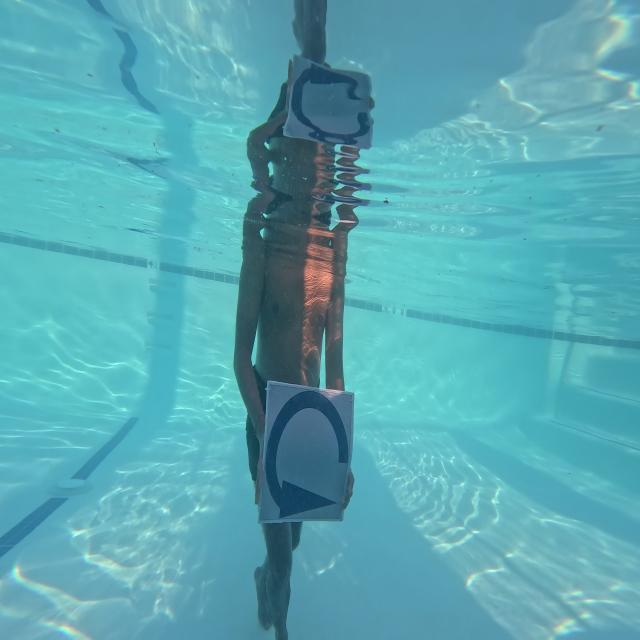blue_side: (254, 368, 360, 540)
